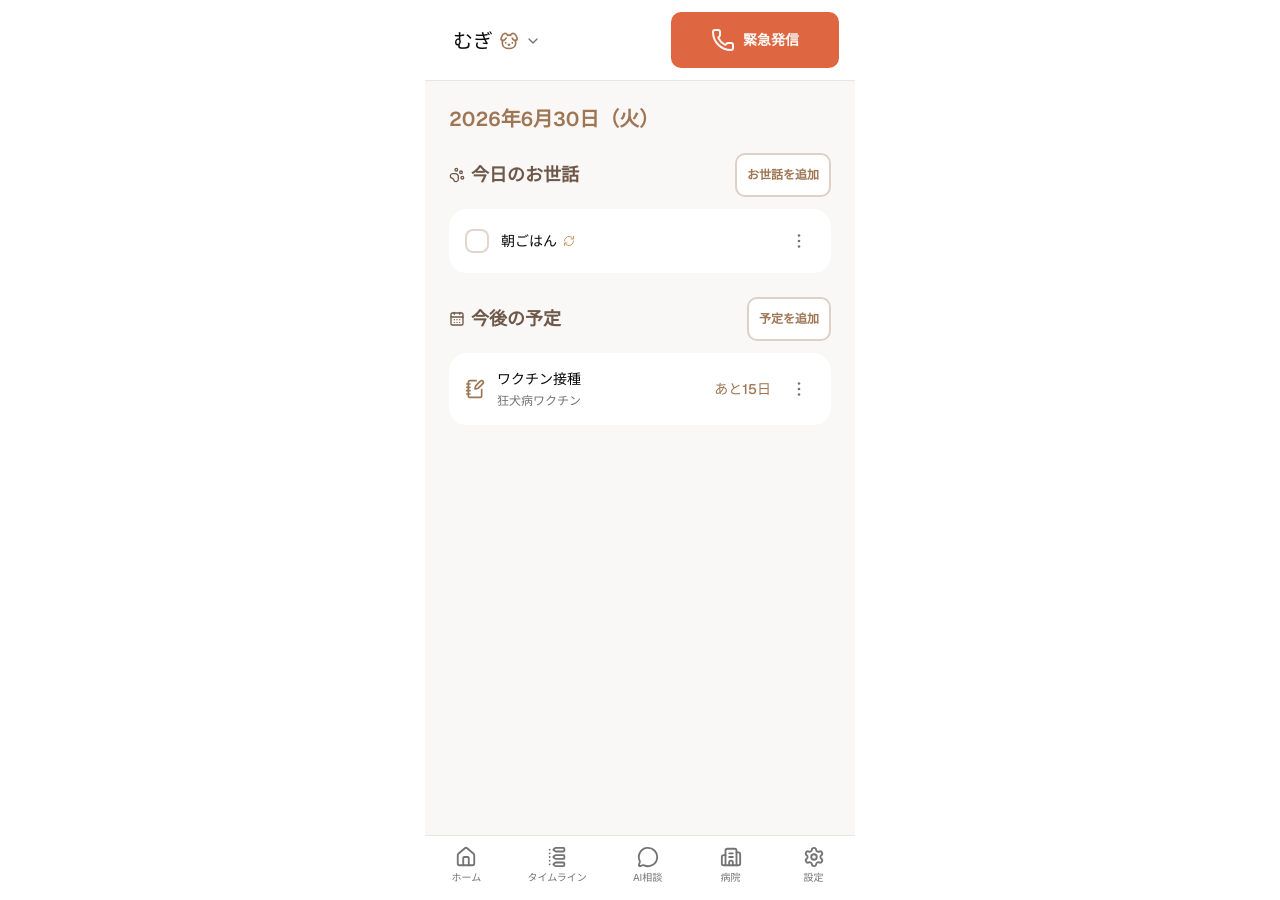
Test: CareHomePage › ToDo関連 › UT-F-203: ToDo「追加」ボタンクリックでModalが開く
What coordinates should you click on to do the following:
click the button "お世話を追加"
I would click on:
 (783, 175)
Its box is [735,153,831,197].
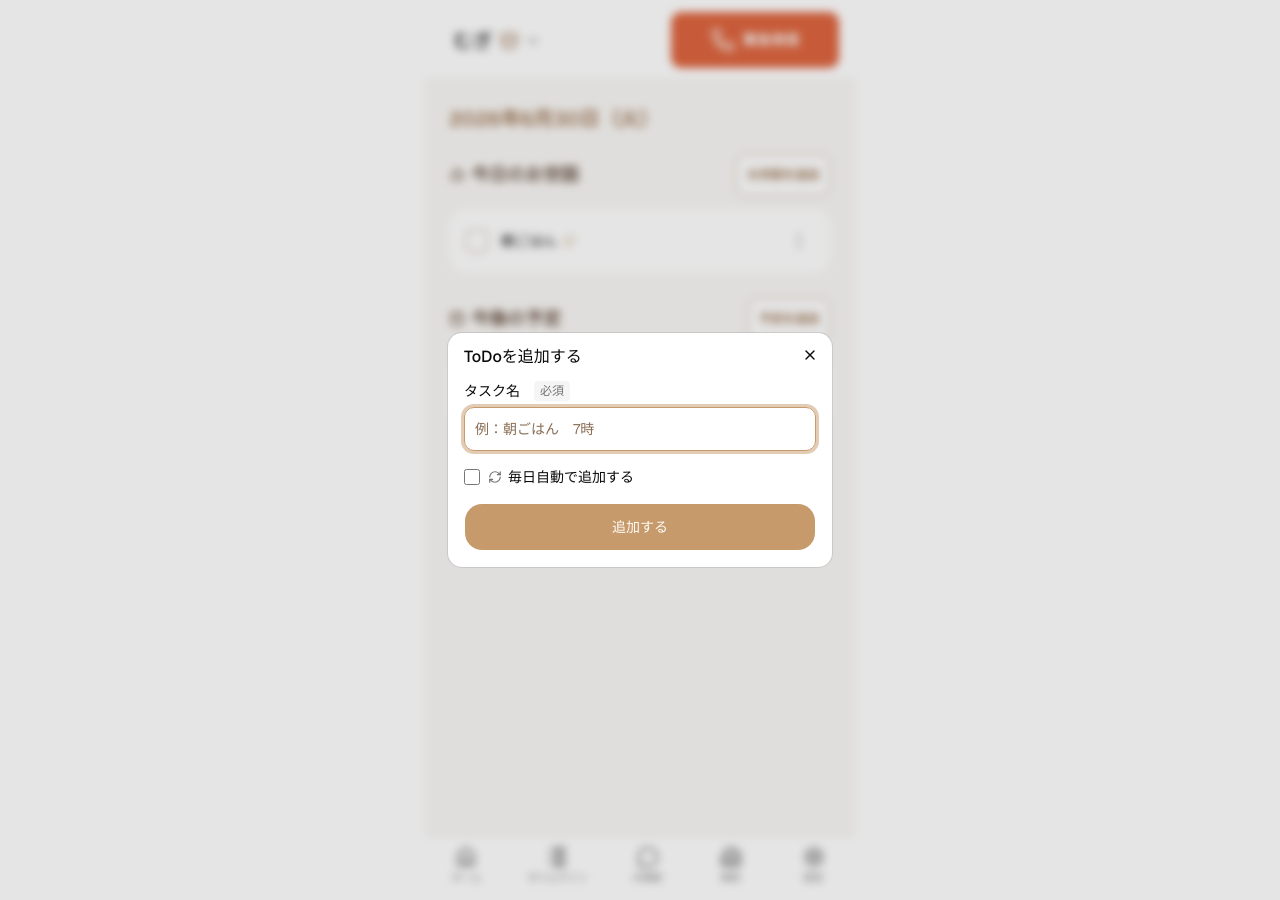
Now the heading "ToDoを追加する" is shown, box [464,346,582,367]
Now the field labelled "タスク名 必須" is empty, box [464,407,816,451]
